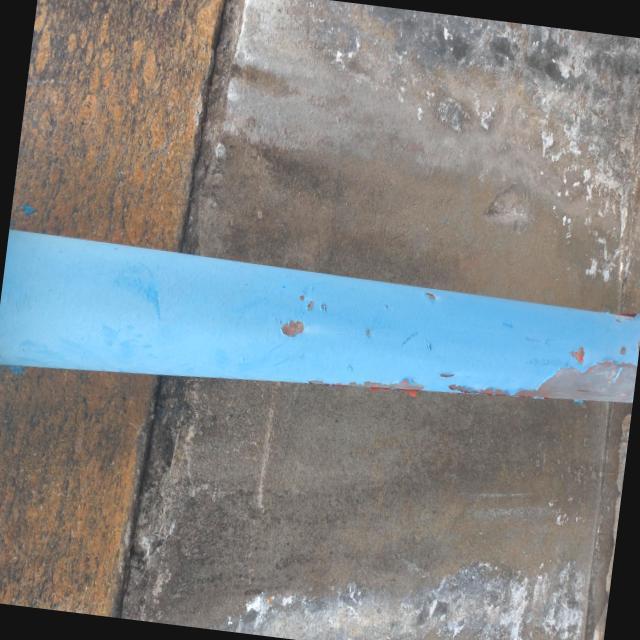gas: (0, 219, 640, 440)
